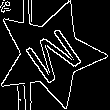M_SE: (15, 20, 84, 89)
